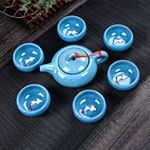cups: (14, 81, 53, 120), (68, 88, 107, 127), (105, 57, 142, 94), (10, 41, 46, 74), (102, 22, 135, 54), (55, 13, 88, 45)
